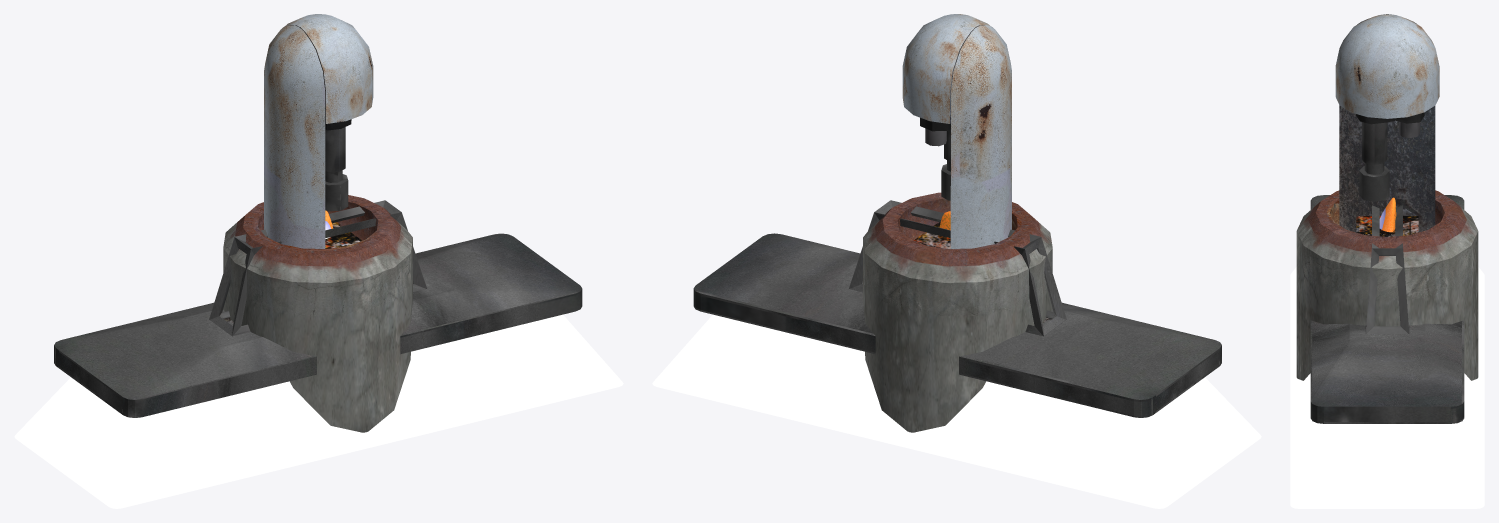
Rendered from models.glb.
3 renders of one model, left to right at view 1: azimuth 30°, elevation 25°; view 2: azimuth 150°, elevation 25°; view 3: azimuth 270°, elevation 25°, orthographic. The views are drawn at different scales.
Parts seen in each view (by area): view 1: ceiling-light-rays, ceiling-frame, turret-base, turret-tower, turret-gimble, turret-gun; view 2: ceiling-light-rays, ceiling-frame, turret-base, turret-tower, turret-gimble; view 3: ceiling-light-rays, turret-base, ceiling-frame, turret-gimble, turret-tower, turret-gun, wreck-cube, ship-display, crate-metal.
Part boxes in pixels (left/top/right/bottom): ceiling-light-rays: left=14, top=314, right=623, bottom=508; ceiling-frame: left=54, top=200, right=582, bottom=417; turret-base: left=223, top=195, right=412, bottom=432; turret-tower: left=264, top=25, right=325, bottom=248; turret-gimble: left=285, top=14, right=373, bottom=130; turret-gun: left=325, top=127, right=348, bottom=211; ceiling-light-rays: left=652, top=314, right=1261, bottom=508; ceiling-frame: left=693, top=200, right=1221, bottom=417; turret-base: left=863, top=192, right=1052, bottom=432; turret-tower: left=950, top=25, right=1011, bottom=248; turret-gimble: left=902, top=14, right=989, bottom=146; ceiling-light-rays: left=1290, top=267, right=1484, bottom=508; turret-base: left=1296, top=190, right=1478, bottom=380; ceiling-frame: left=1310, top=195, right=1464, bottom=423; turret-gimble: left=1335, top=14, right=1439, bottom=138; turret-tower: left=1339, top=14, right=1435, bottom=232; turret-gun: left=1359, top=122, right=1389, bottom=201; wreck-cube: left=1356, top=216, right=1418, bottom=236; ship-display: left=1379, top=197, right=1396, bottom=232; crate-metal: left=1356, top=216, right=1418, bottom=236.
Size of what is drawn, in the model's own units: 18.04 by 13.13 by 6.24.
Materials: 8 (7 with a texture image).
